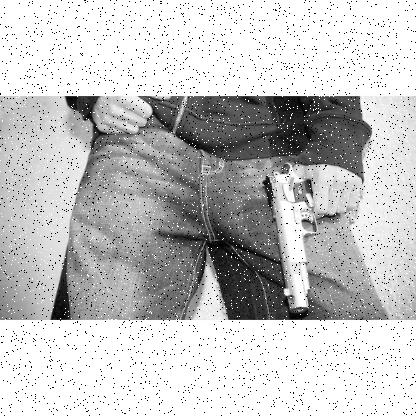gun: (259, 160, 351, 314)
